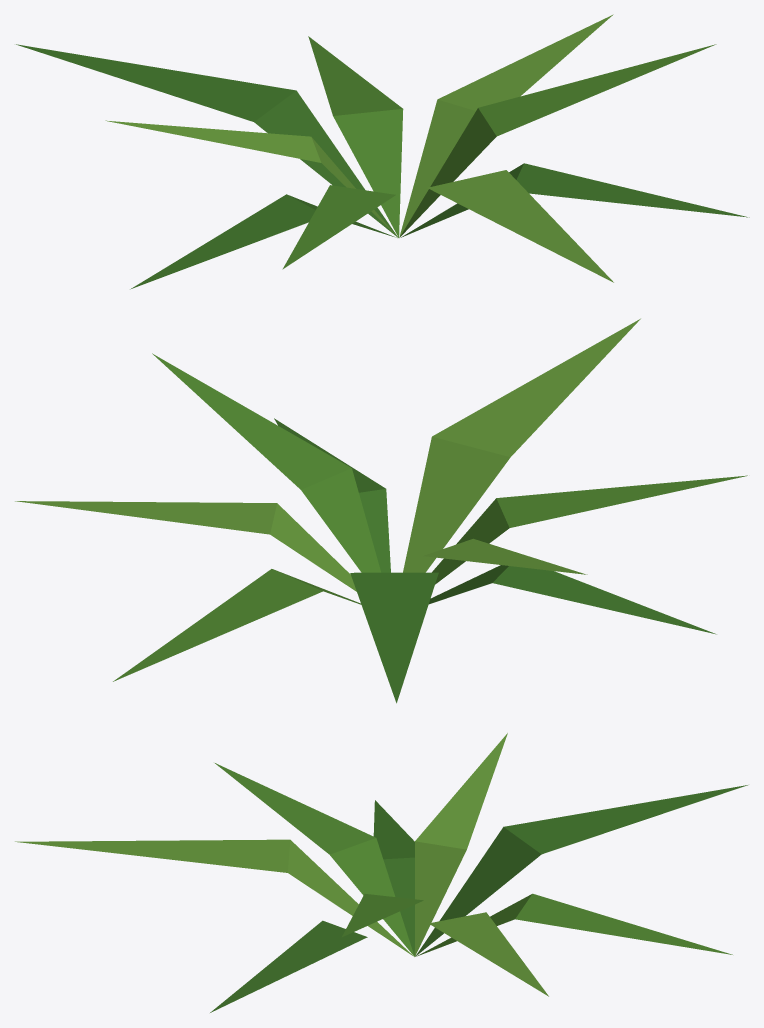
File: cover-fernFar.glb
The picture shows the model from 3 angles, top to bottom: view 1: azimuth 30°, elevation 25°; view 2: azimuth 150°, elevation 25°; view 3: azimuth 270°, elevation 25°; orthographic projection. The views are drawn at different scales.
Visible parts, largest first — view 1: cover-fernFar; view 2: cover-fernFar; view 3: cover-fernFar.
Part boxes in pixels (x1,y1,x2,y2): cover-fernFar: [16, 14, 749, 289]; cover-fernFar: [15, 318, 747, 703]; cover-fernFar: [15, 733, 747, 1012].
Size of the model in its own units: 1.21 by 0.3124 by 1.51.
